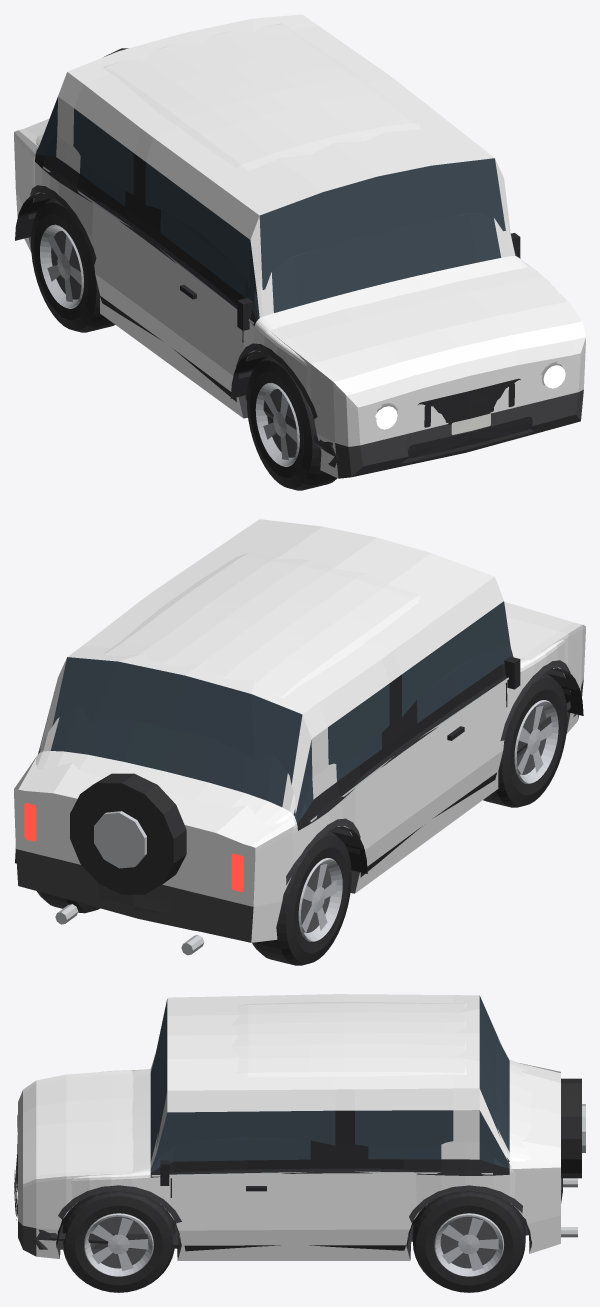
File: trilheiro.glb
3 renders of one model, top to bottom at view 1: azimuth 30°, elevation 25°; view 2: azimuth 150°, elevation 25°; view 3: azimuth 270°, elevation 25°, orthographic. The views are drawn at different scales.
Visible parts, largest first — view 1: body.001, body, glass.001, glass, details, wheel_fr, wheel_rr, wheel_wells.001, lamp_head.001; view 2: body.001, body, glass.001, details, glass, wheel_rr, wheel_fr, wheel_wells.001, lamp_tail.001; view 3: body.001, body, glass.001, wheel_rl, wheel_fl, details, glass, wheel_wells, wheel_wells.001.
Part boxes in pixels (x1,y1,x2,y2): body.001: (14, 14, 585, 478); body: (33, 23, 556, 391); glass.001: (36, 97, 505, 295); glass: (36, 134, 517, 321); details: (30, 48, 533, 467); wheel_fr: (246, 355, 337, 490); wheel_rr: (31, 197, 115, 332); wheel_wells.001: (15, 193, 266, 398); lamp_head.001: (376, 365, 565, 429); body.001: (14, 519, 585, 942); body: (35, 552, 565, 865); glass.001: (38, 601, 510, 822); details: (55, 656, 576, 955); glass: (38, 644, 513, 823); wheel_rr: (252, 831, 351, 965); wheel_fr: (483, 673, 567, 807); wheel_wells.001: (332, 668, 583, 873); lamp_tail.001: (24, 803, 243, 891); body.001: (18, 994, 560, 1260); body: (60, 1001, 531, 1241); glass.001: (156, 996, 508, 1168); wheel_rl: (412, 1192, 525, 1292); wheel_fl: (62, 1192, 175, 1292); details: (14, 1078, 585, 1251); glass: (150, 1034, 509, 1172); wheel_wells: (56, 1190, 531, 1247); wheel_wells.001: (56, 1192, 531, 1247).
Bounding box in the file's own units: 1.98 × 1.79 × 4.36.
